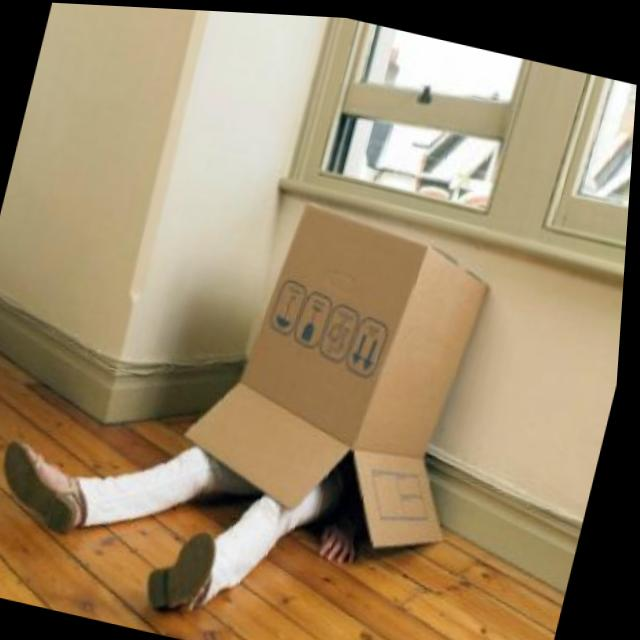box: (167, 174, 522, 566)
